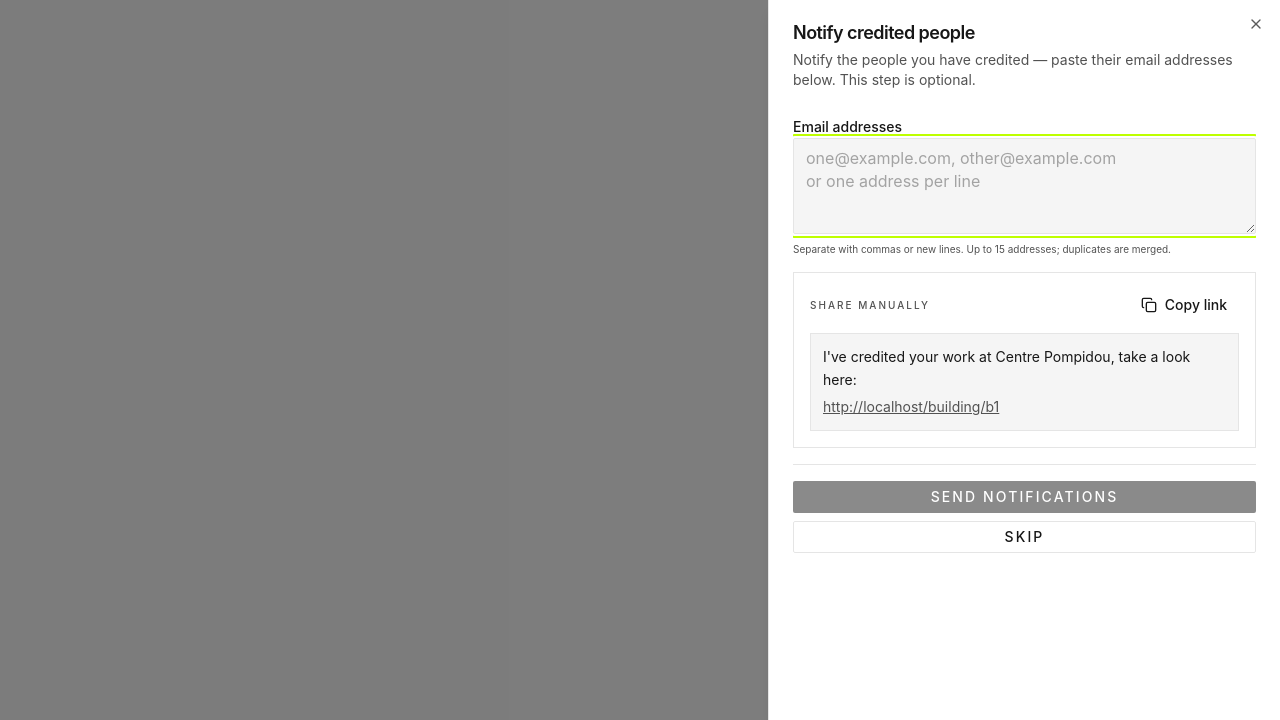
NotifyCreditedEntitiesStep › parses three comma-separated addresses into pills under Sending to
Type "one@a.com, two@b.com, three@c.com" into the text box labelled "Email addresses".
click(1024, 186); type("one@a.com, two@b.com, three@c.com")  # box left=793, top=138, right=1256, bottom=234
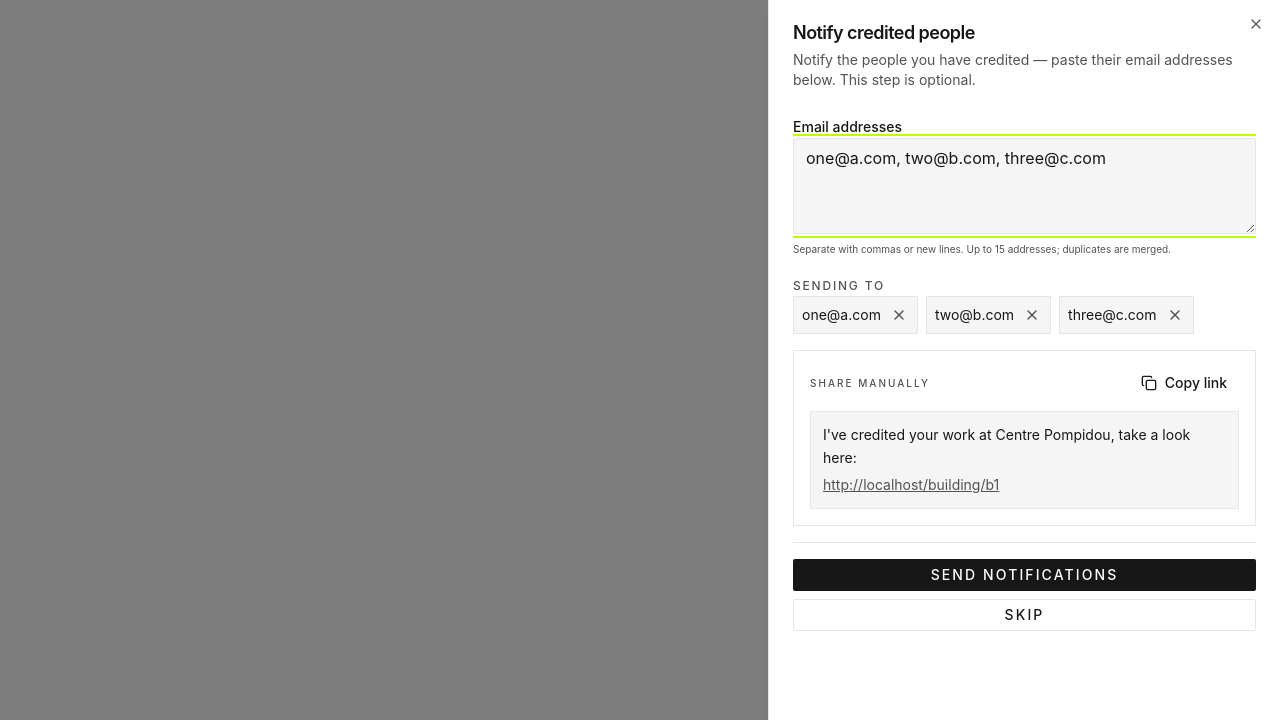
Expected: the text "Sending to" is shown, left=793, top=278, right=885, bottom=293
Expected: the button named "remove one@a.com" is shown, left=885, top=301, right=913, bottom=329
Expected: the button named "remove two@b.com" is shown, left=1018, top=301, right=1046, bottom=329
